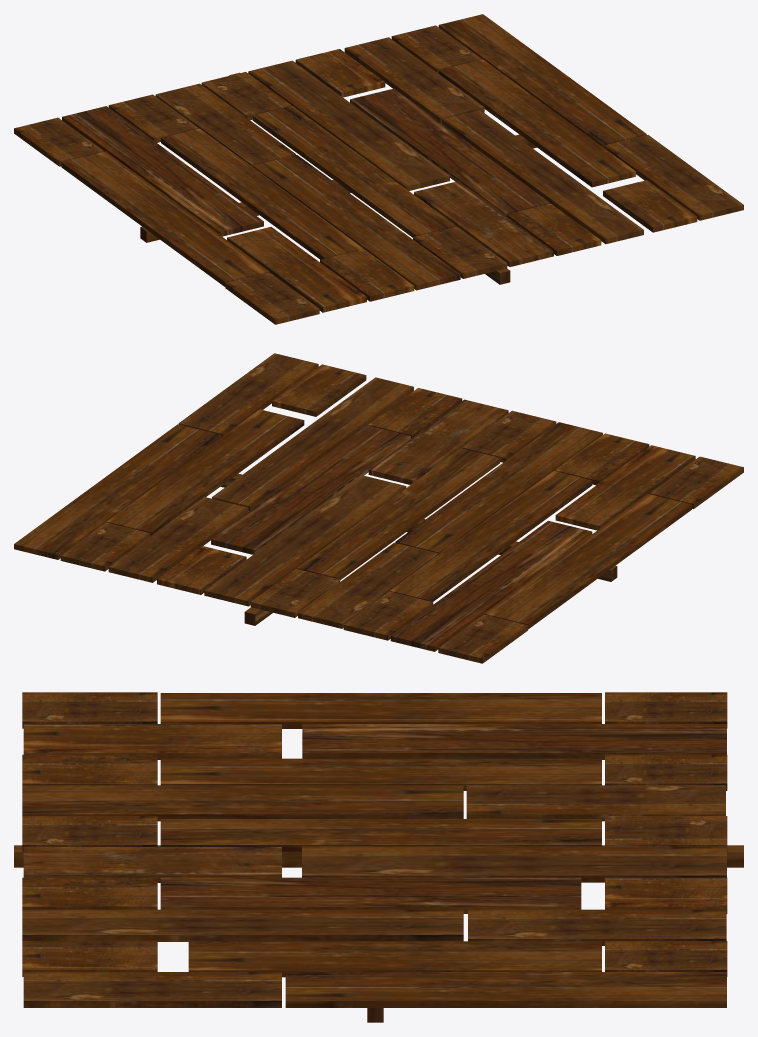
The model's file is shackFloor.fbx.
The picture shows the model from 3 angles, top to bottom: view 1: azimuth 30°, elevation 25°; view 2: azimuth 150°, elevation 25°; view 3: azimuth 270°, elevation 25°; orthographic projection. The views are drawn at different scales.
Visible parts, largest first — view 1: FloorRoof; view 2: FloorRoof; view 3: FloorRoof.
Boxes of the visible parts, x1=… form: FloorRoof: x1=14, y1=14, x2=743, y2=324; FloorRoof: x1=14, y1=353, x2=743, y2=663; FloorRoof: x1=14, y1=692, x2=743, y2=1022.
Bounding box in the file's own units: 401 × 13.8 × 400.
1 material, 1 textured.
